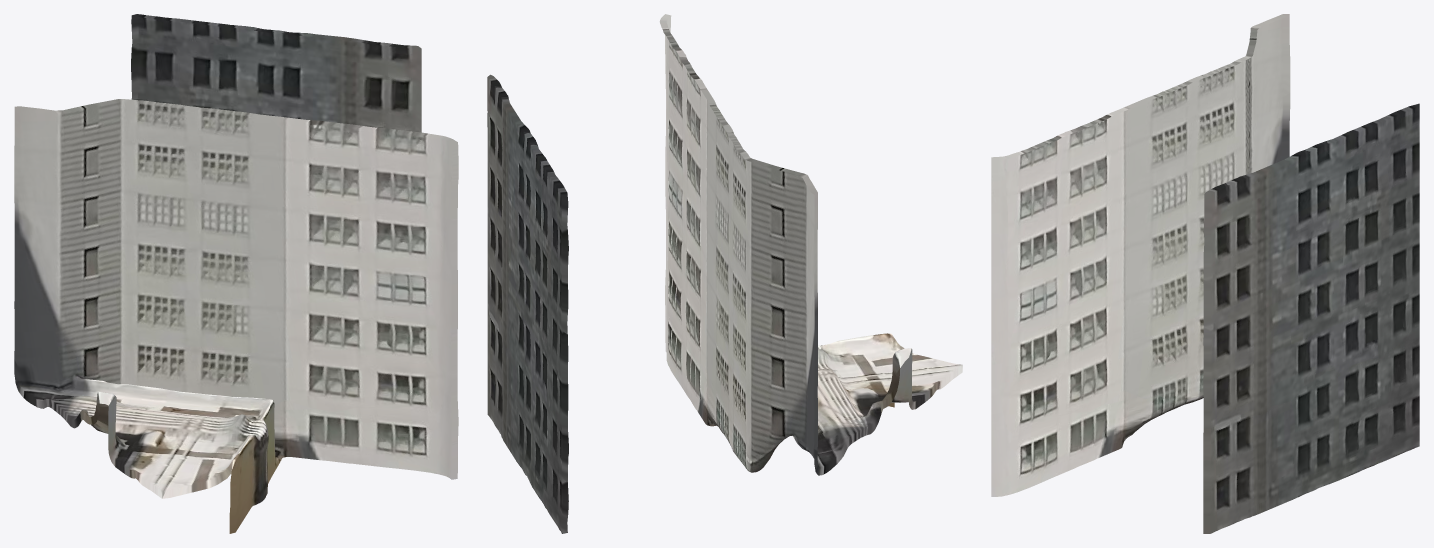
The model's file is z20-167781-405231-h1-yup-uvflip-v3-world.glb.
The picture shows the model from 3 angles, left to right: view 1: azimuth 30°, elevation 25°; view 2: azimuth 150°, elevation 25°; view 3: azimuth 270°, elevation 25°; orthographic projection.
Size of the model in its own units: 30.16 by 26.6 by 30.32.
1 material, 1 textured.
